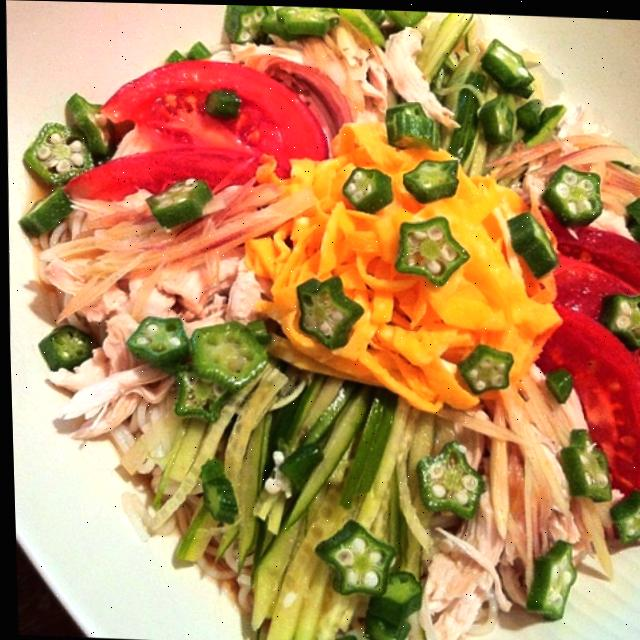面条主食: (2, 0, 640, 640)
